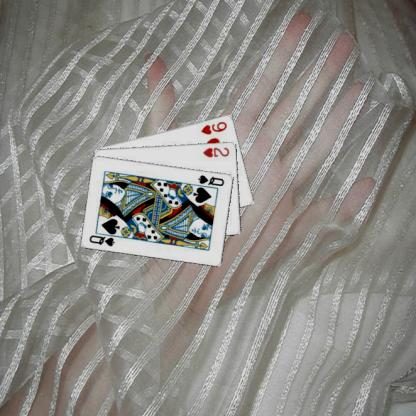2H: (200, 144, 230, 158)
9H: (199, 118, 228, 136)
QS: (196, 172, 226, 187), (87, 232, 116, 247)
